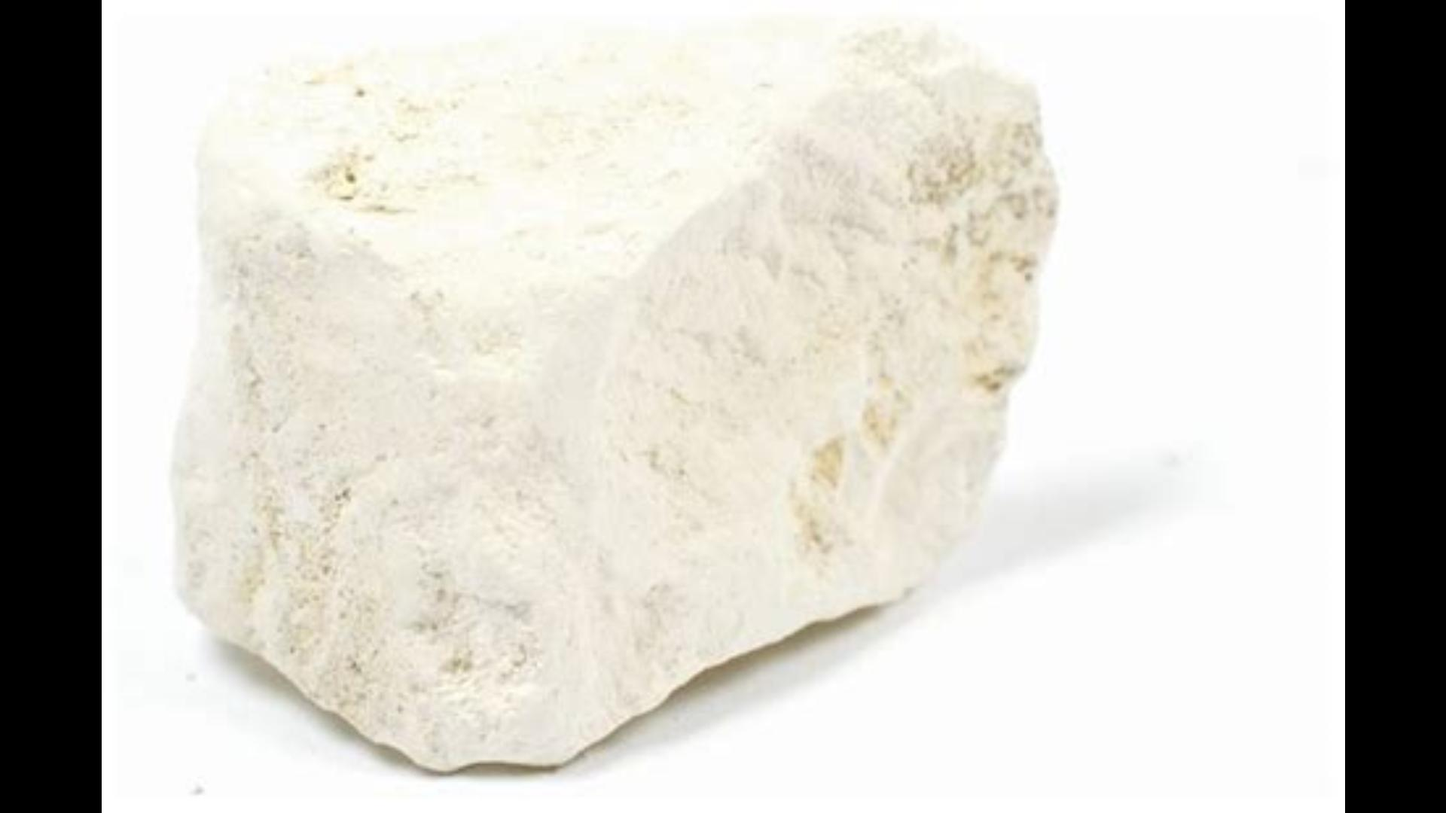rock: (174, 31, 1051, 768)
